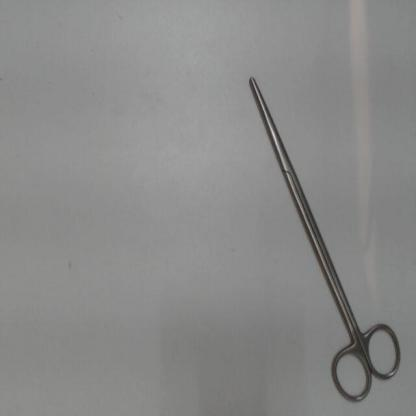9 Metzenbaum Scissors: (246, 73, 410, 408)
